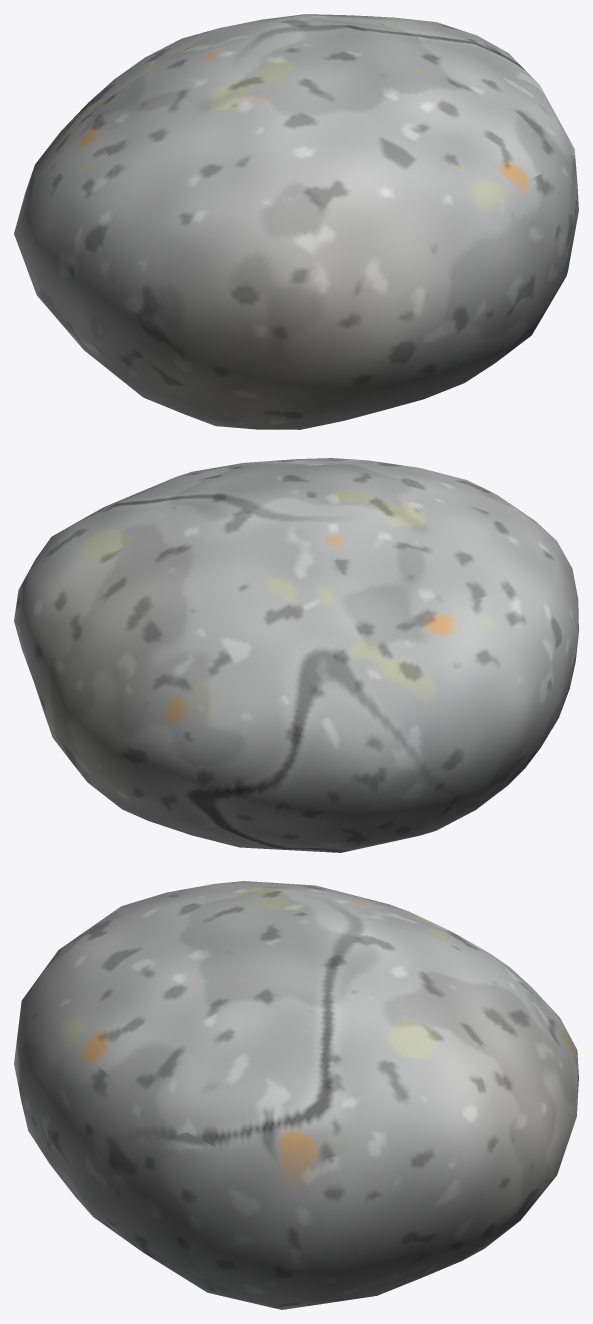
Rendered from pebble_a.glb.
3 renders of one model, top to bottom at view 1: azimuth 30°, elevation 25°; view 2: azimuth 150°, elevation 25°; view 3: azimuth 270°, elevation 25°, orthographic. The views are drawn at different scales.
Parts seen in each view (by area): view 1: Rock; view 2: Rock; view 3: Rock.
Boxes of the visible parts, <box> form: Rock: <box>14,14,578,429</box>; Rock: <box>14,458,578,852</box>; Rock: <box>14,881,578,1309</box>.
Size of the model in its own units: 0.3686 by 0.2369 by 0.3638.
Materials: 1 (1 with a texture image).
